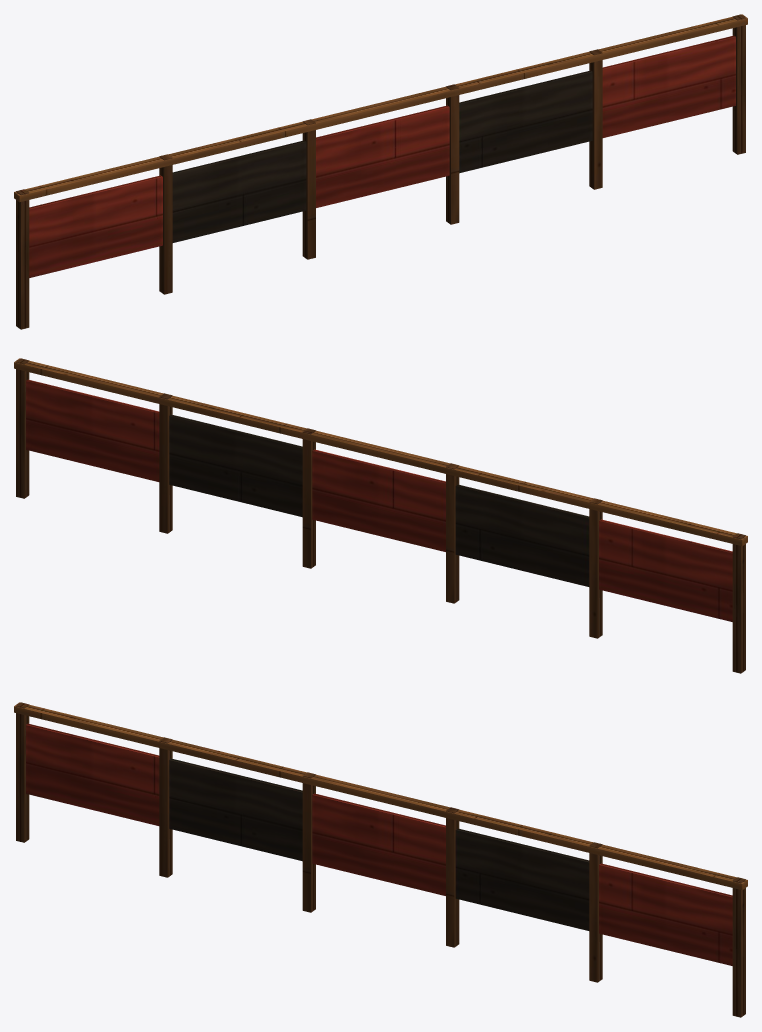
The model's file is tilt_barrier.glb.
The picture shows the model from 3 angles, top to bottom: view 1: azimuth 30°, elevation 25°; view 2: azimuth 150°, elevation 25°; view 3: azimuth 330°, elevation 25°; orthographic projection.
Parts seen in each view (by area): view 1: props_0_0; view 2: props_0_0; view 3: props_0_0.
Part boxes in pixels (x1,y1,x2,y2): props_0_0: [14, 14, 747, 329]; props_0_0: [14, 358, 747, 673]; props_0_0: [14, 702, 747, 1017].
Size of the model in its own units: 12.2 by 2.16 by 0.16.
Materials: 1 (1 with a texture image).
